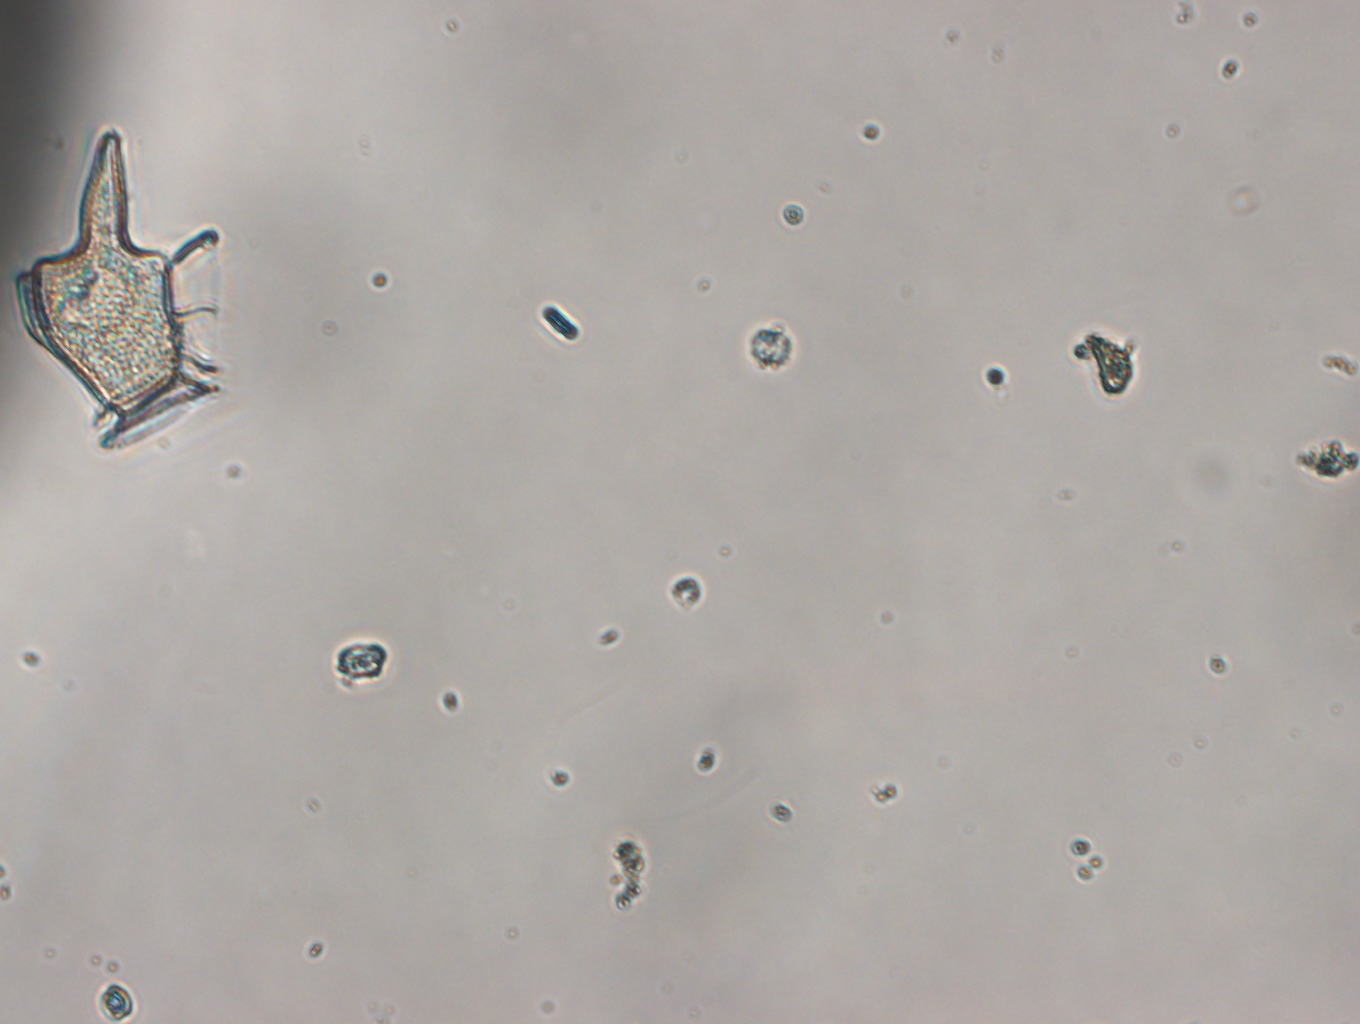dinophysis caudata: (11, 123, 228, 449)
